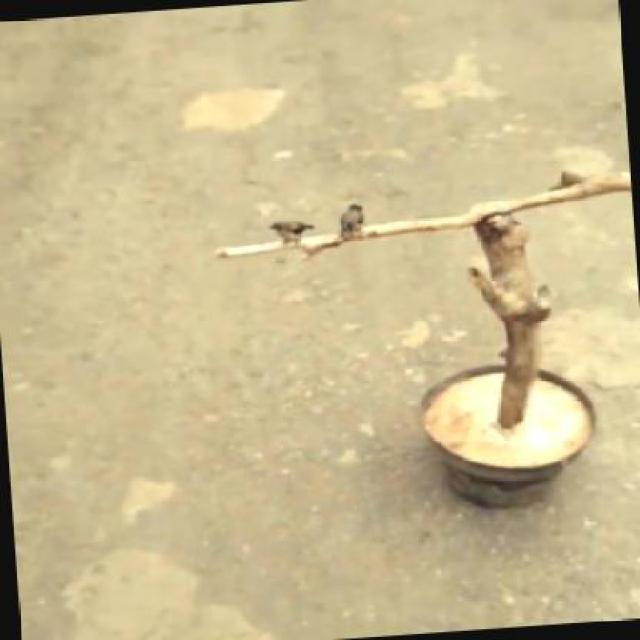Bird: (268, 214, 321, 263), (333, 192, 374, 249)
